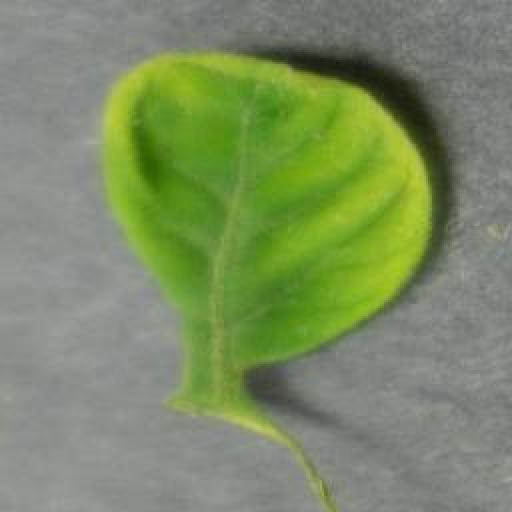Yellow Leaf Curl Virus: (100, 50, 438, 366)
